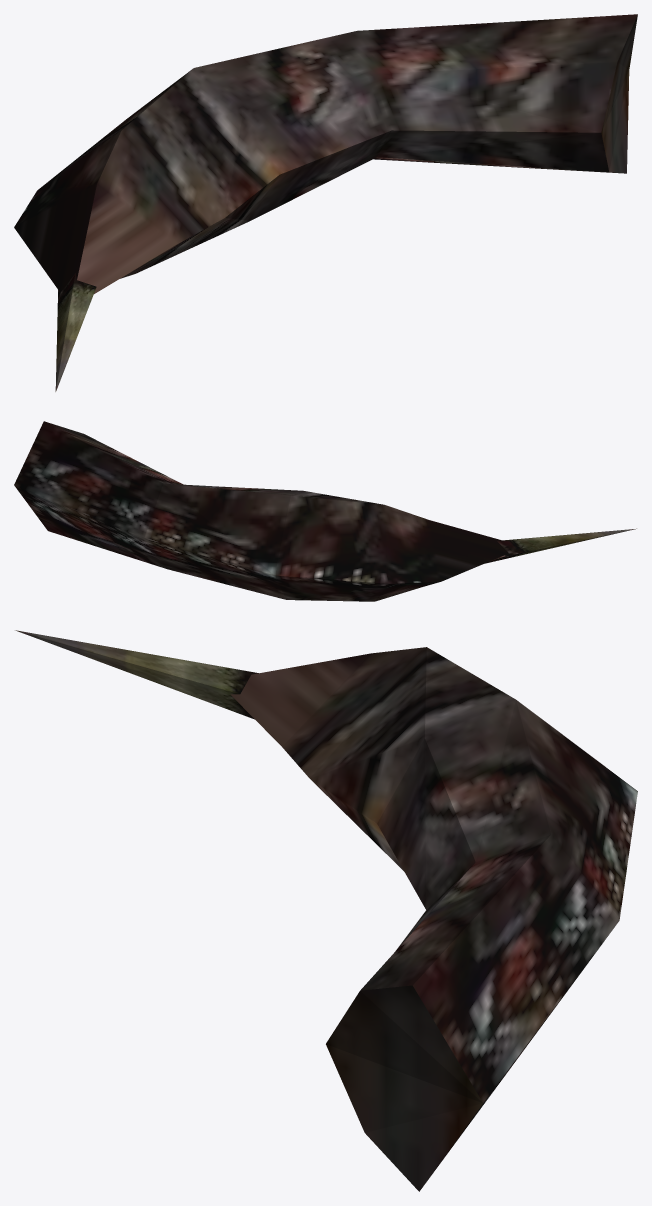
The model's file is ITAT_STING.glb.
The picture shows the model from 3 angles, top to bottom: view 1: azimuth 30°, elevation 25°; view 2: azimuth 150°, elevation 25°; view 3: azimuth 270°, elevation 25°; orthographic projection. The views are drawn at different scales.
Parts seen in each view (by area): view 1: ITAT_STING; view 2: ITAT_STING; view 3: ITAT_STING.
Part boxes in pixels (x1,y1,x2,y2): ITAT_STING: (14,14,637,391); ITAT_STING: (14,421,636,601); ITAT_STING: (15,630,637,1191).
Bounding box in the file's own units: 0.6935 × 0.1554 × 0.3752.
Materials: 1 (1 with a texture image).
